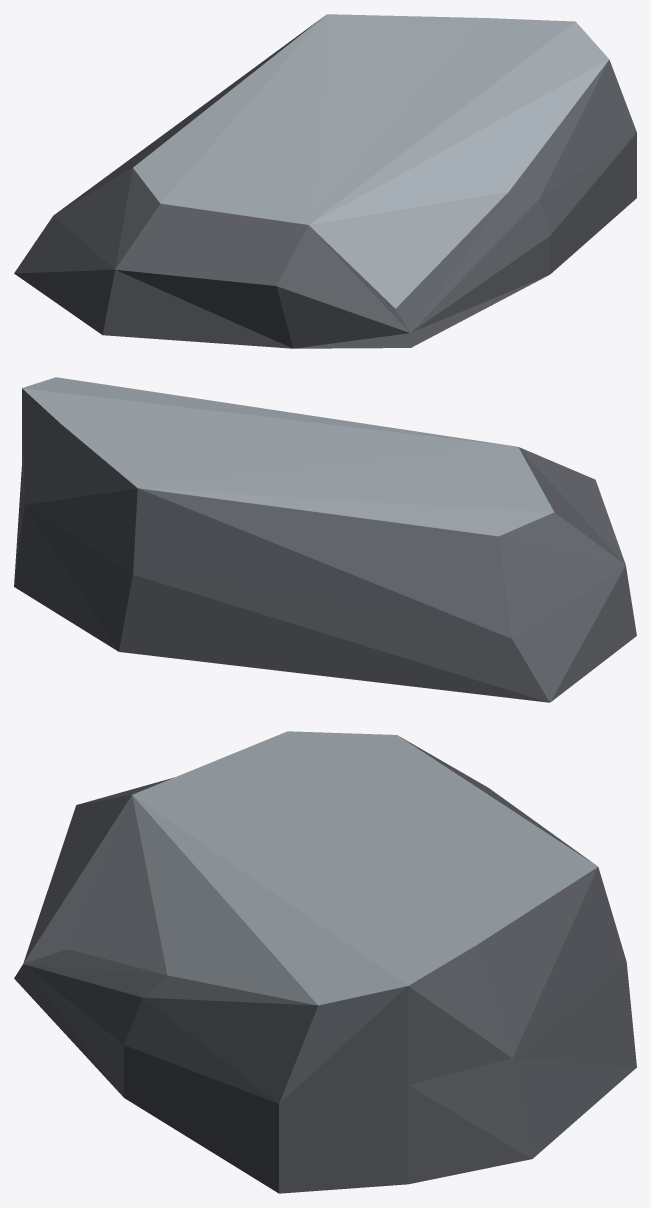
File: XSK_08.FBX
3 renders of one model, top to bottom at view 1: azimuth 30°, elevation 25°; view 2: azimuth 150°, elevation 25°; view 3: azimuth 270°, elevation 25°, orthographic. The views are drawn at different scales.
Parts seen in each view (by area): view 1: XSK_08; view 2: XSK_08; view 3: XSK_08.
Part boxes in pixels (x1,y1,x2,y2): XSK_08: [14, 14, 636, 348]; XSK_08: [14, 377, 636, 702]; XSK_08: [14, 731, 636, 1193].
Size of the model in its own units: 4.68 by 1.19 by 3.4.
